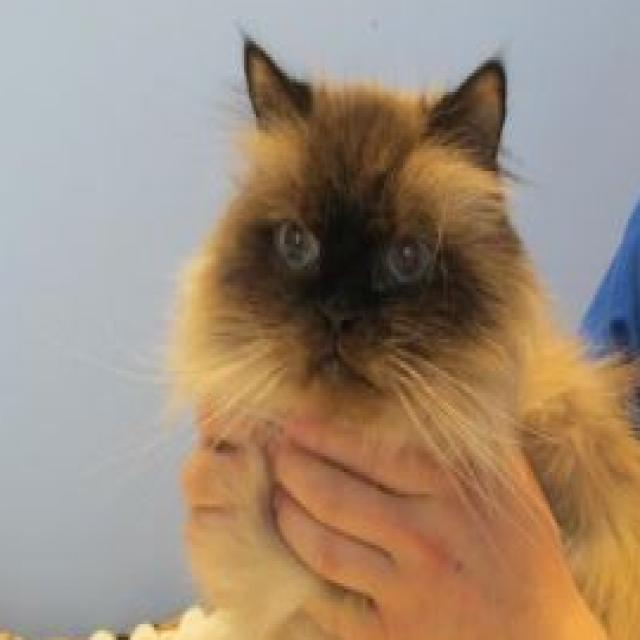Birman: (161, 22, 640, 640)
